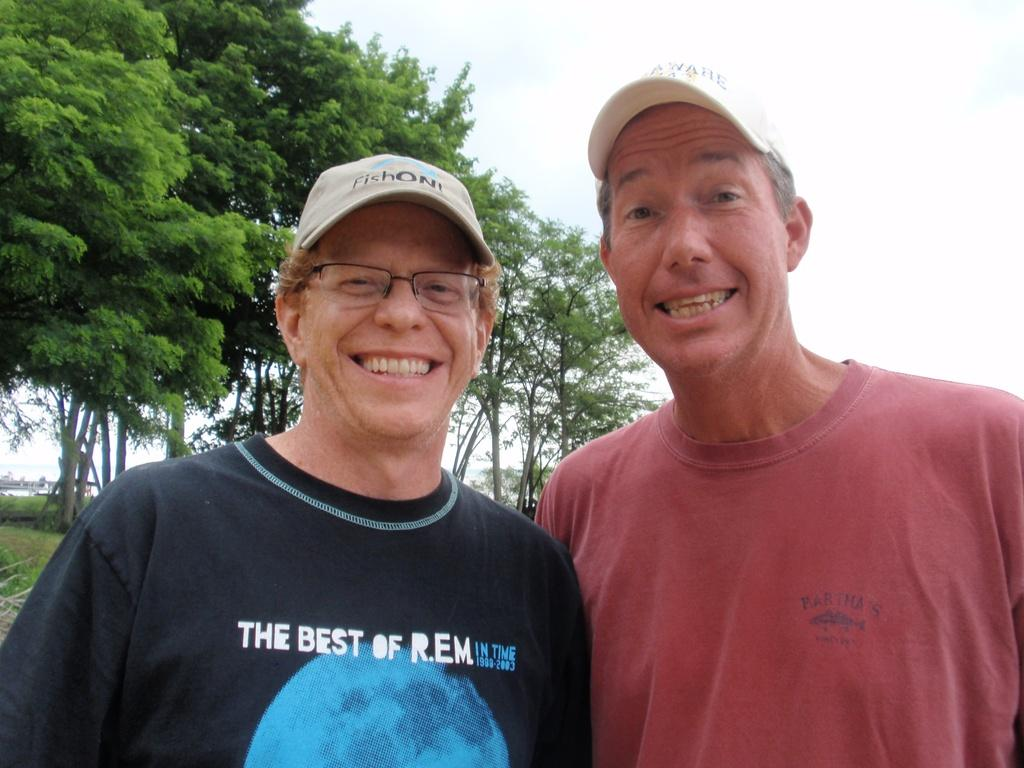Hat: (587, 58, 793, 188), (291, 150, 495, 266)
